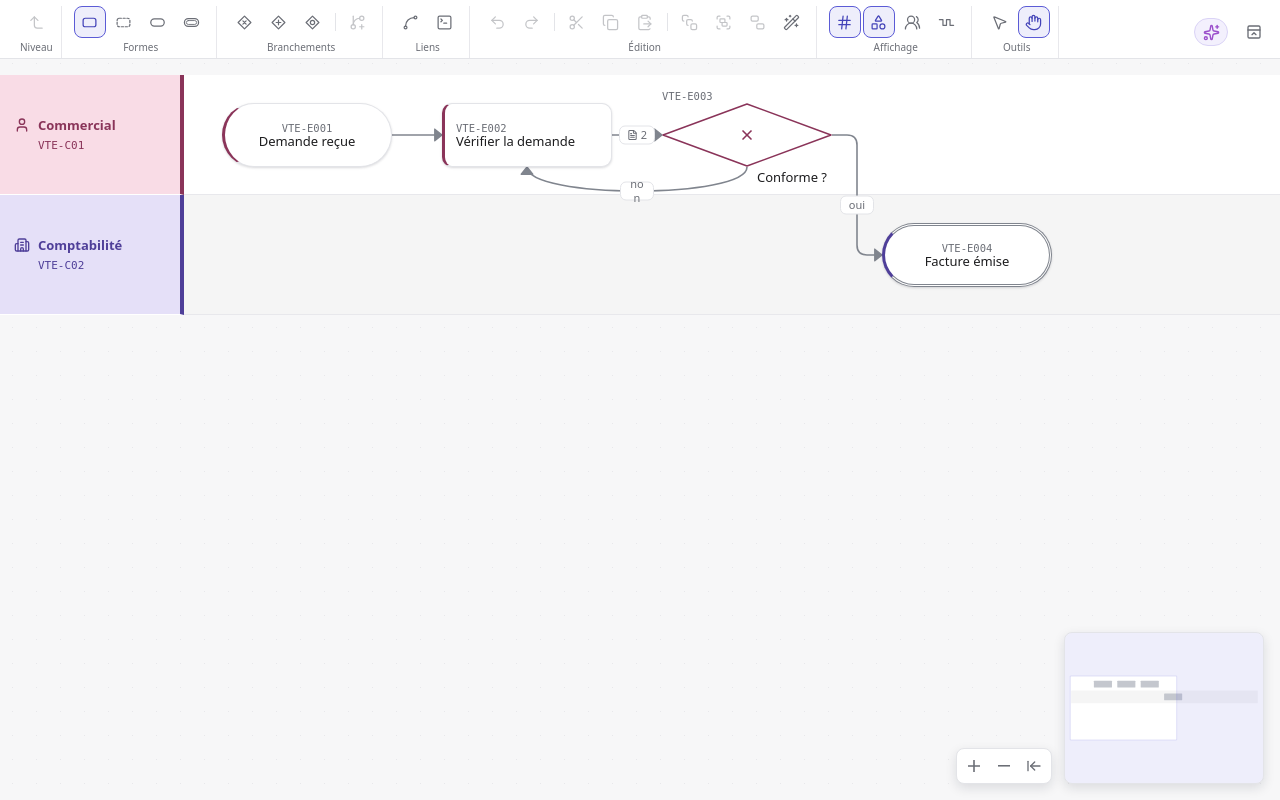
Test case: a context menu (B-2.4-01 to B-2.4-09) › closes on Escape and on a click outside; an entry runs and closes it
The image size is (1280, 800).
Right-click the element showing "VTE-E002 Vérifier la demande" at (527, 135), box x1=442 y1=103 x2=612 y2=167
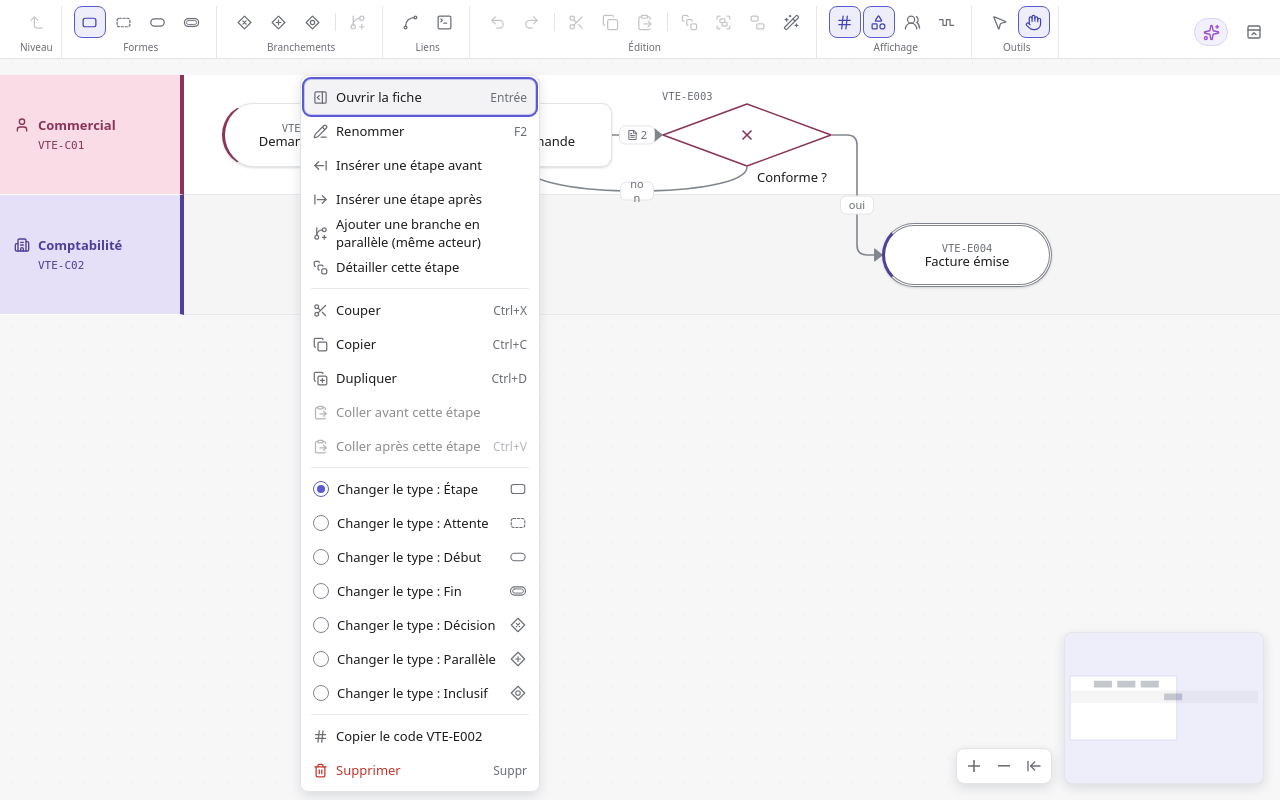
Press Escape
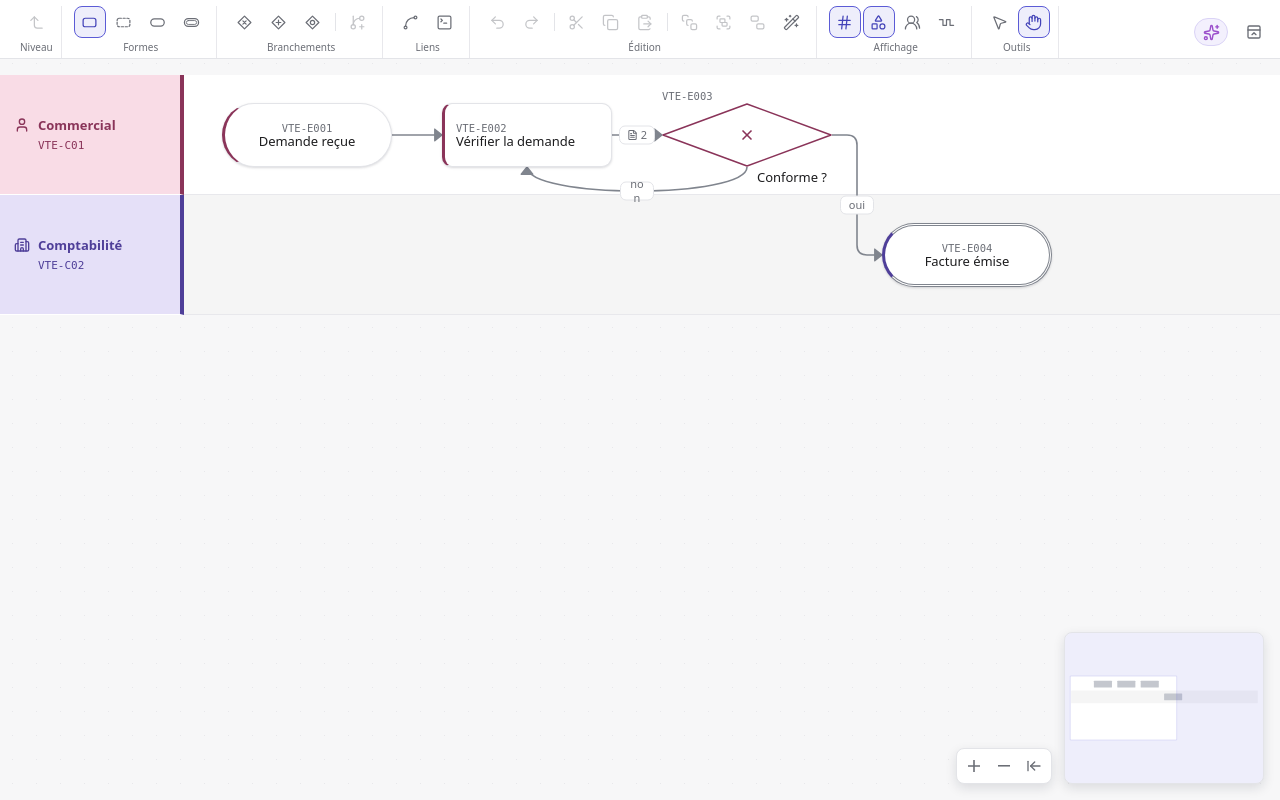
Expected: the menu is gone
Right-click the element showing "VTE-E002 Vérifier la demande" at (527, 135), box x1=442 y1=103 x2=612 y2=167
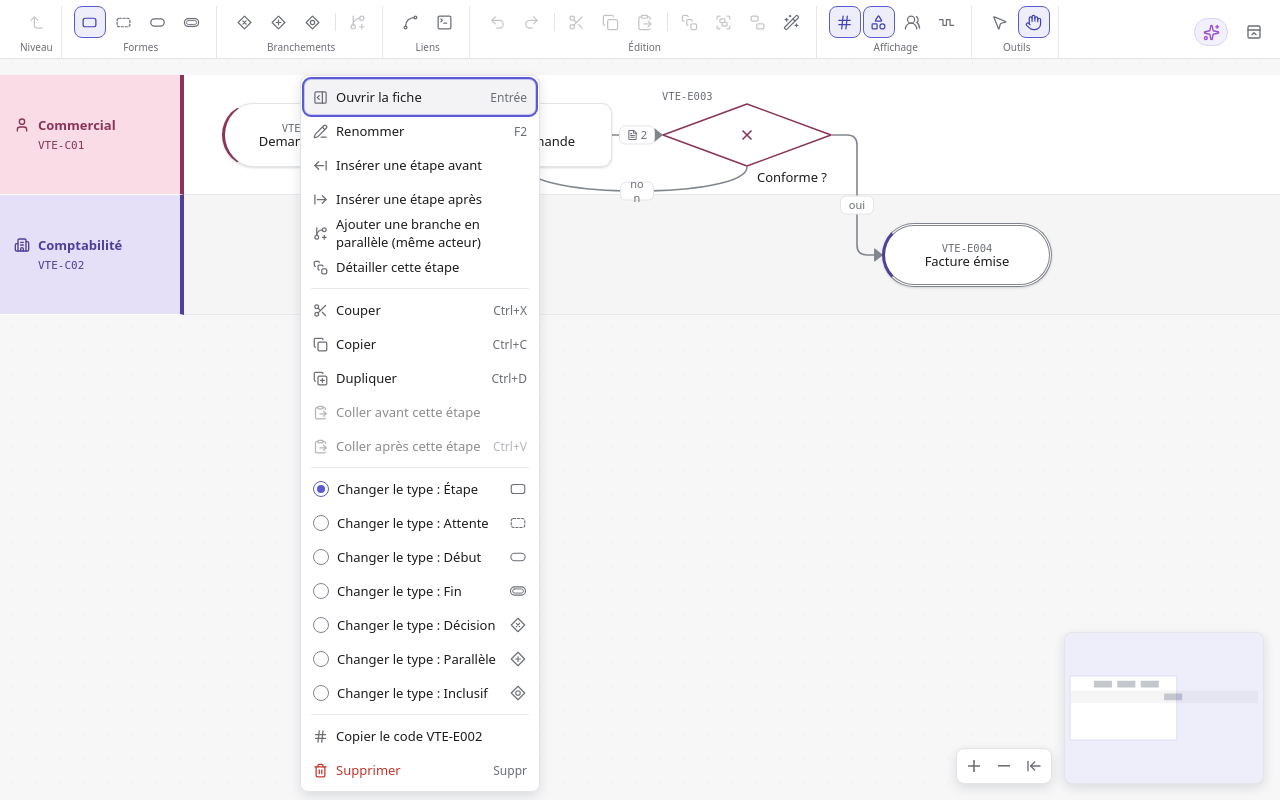
Press the mouse on the element named "Mini-carte" at (640, 400), box x1=0 y1=0 x2=1279 y2=799
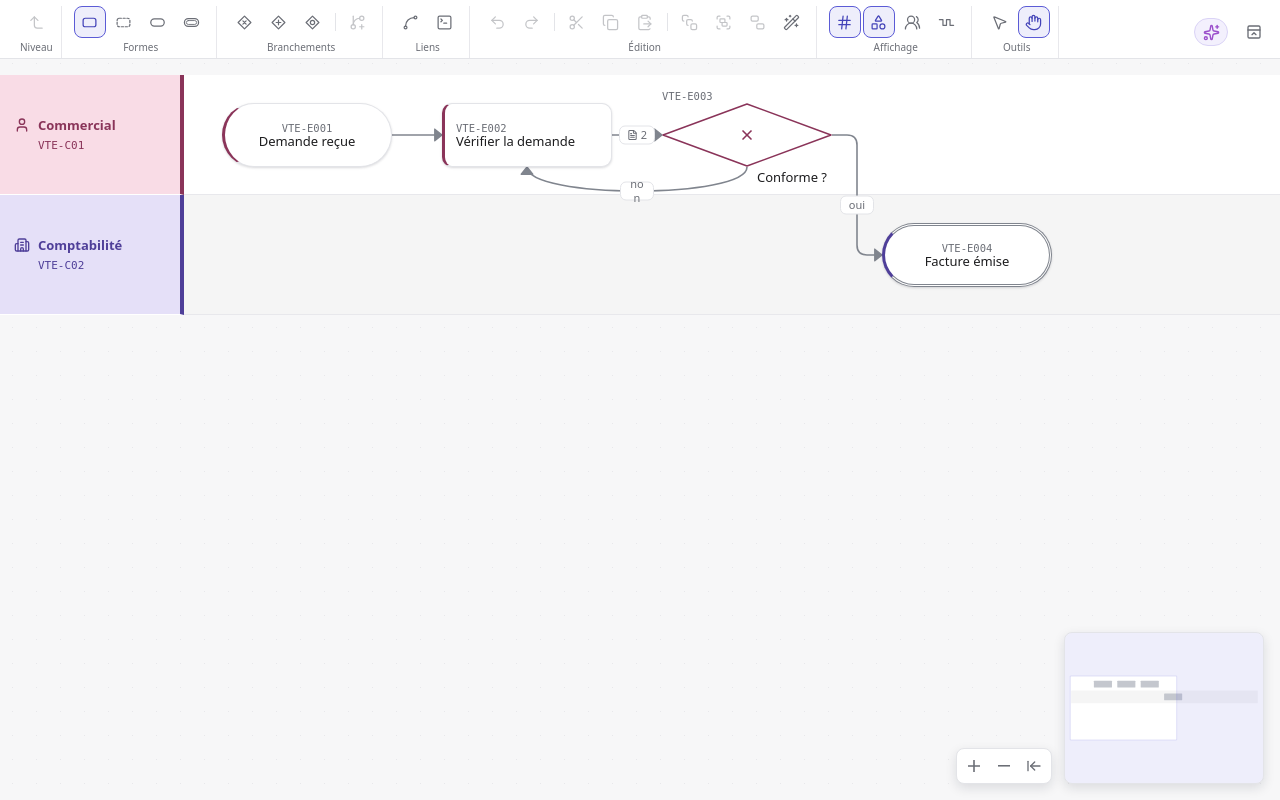
Expected: the menu is gone
Right-click the element showing "VTE-E002 Vérifier la demande" at (527, 135), box x1=442 y1=103 x2=612 y2=167
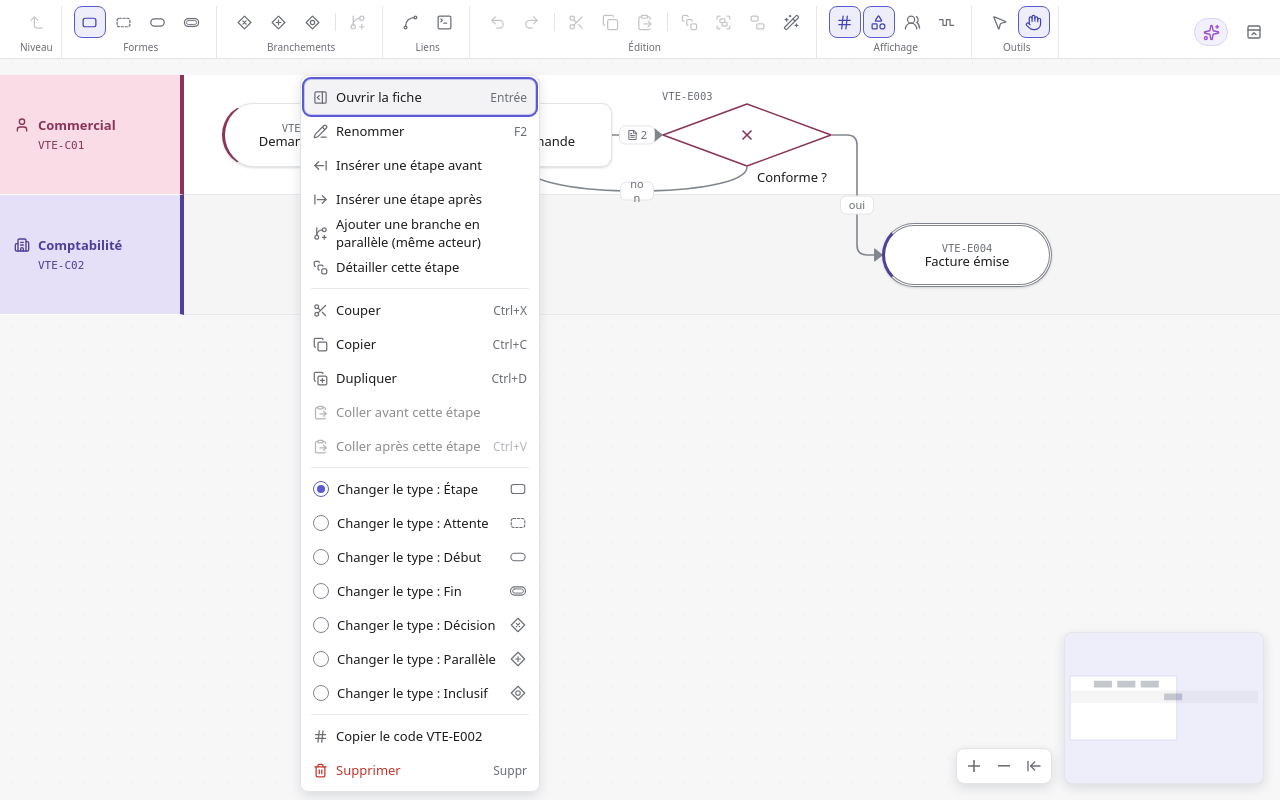
Click the menu item with test id "menu-step-step.insert-after". click: (420, 199)
box: x1=305 y1=182 x2=535 y2=216
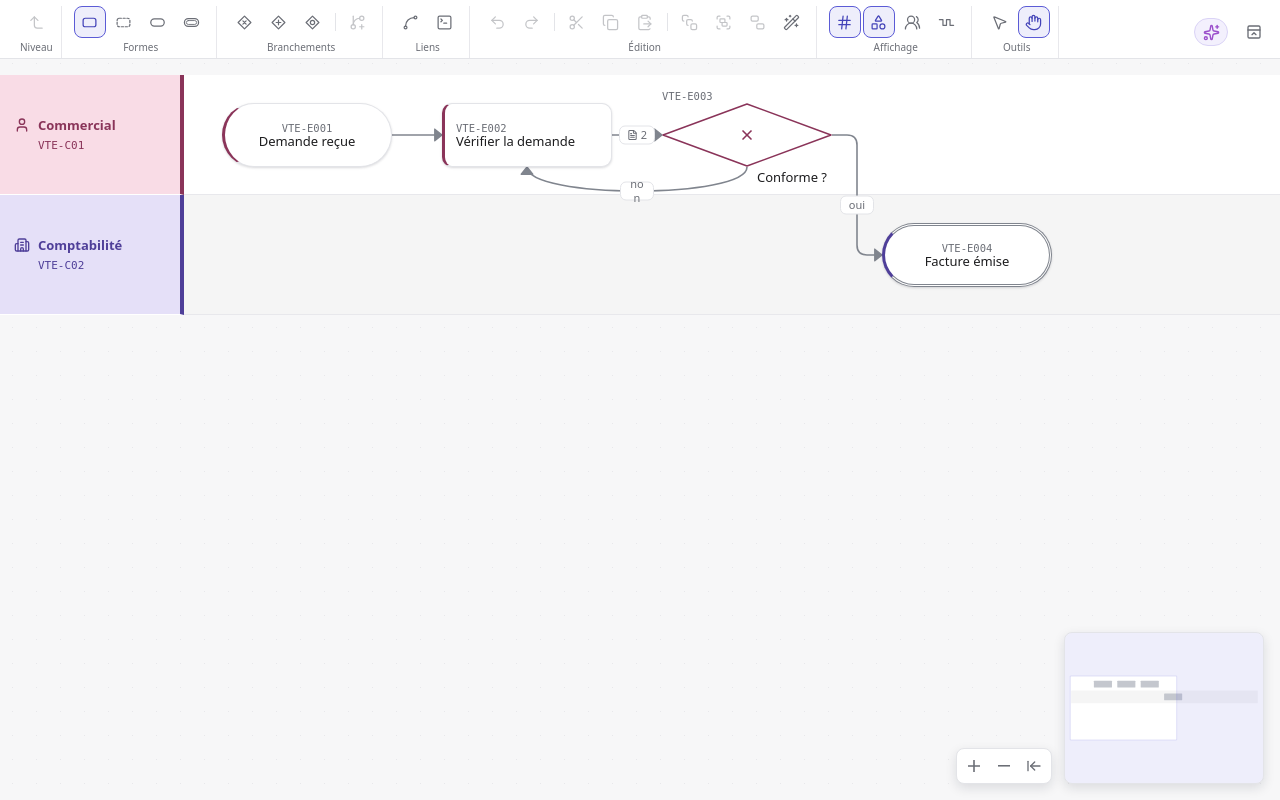
Expected: the menu is gone
